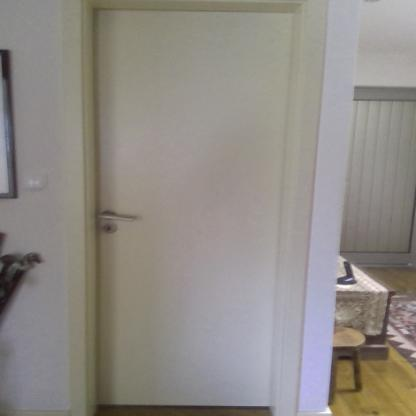door: (98, 9, 276, 409), (349, 85, 415, 266)
lever: (97, 209, 138, 224)
